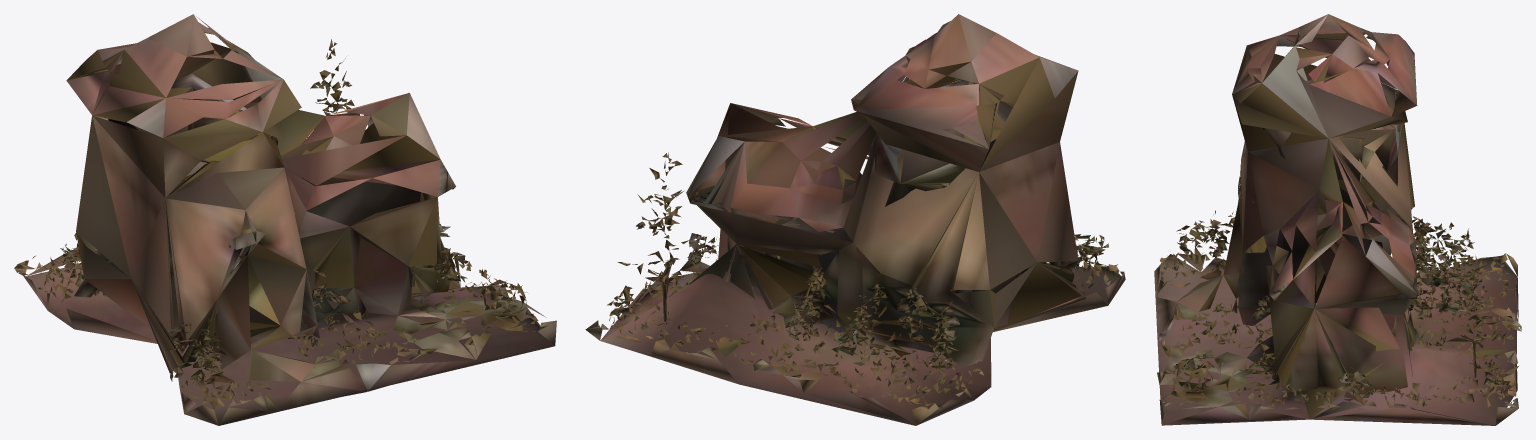
The model's file is Vintage_Stone_Villa_town.glb.
The picture shows the model from 3 angles, left to right: view 1: azimuth 30°, elevation 25°; view 2: azimuth 150°, elevation 25°; view 3: azimuth 270°, elevation 25°; orthographic projection. The views are drawn at different scales.
Visible parts, largest first — view 1: Vintage_Stone_Villa; view 2: Vintage_Stone_Villa; view 3: Vintage_Stone_Villa.
Part boxes in pixels (x1,y1,x2,y2): Vintage_Stone_Villa: (14, 14, 556, 425); Vintage_Stone_Villa: (585, 14, 1125, 425); Vintage_Stone_Villa: (1154, 14, 1521, 425).
Bounding box in the file's own units: 1.86 × 1.64 × 1.86.
Materials: 1 (1 with a texture image).
